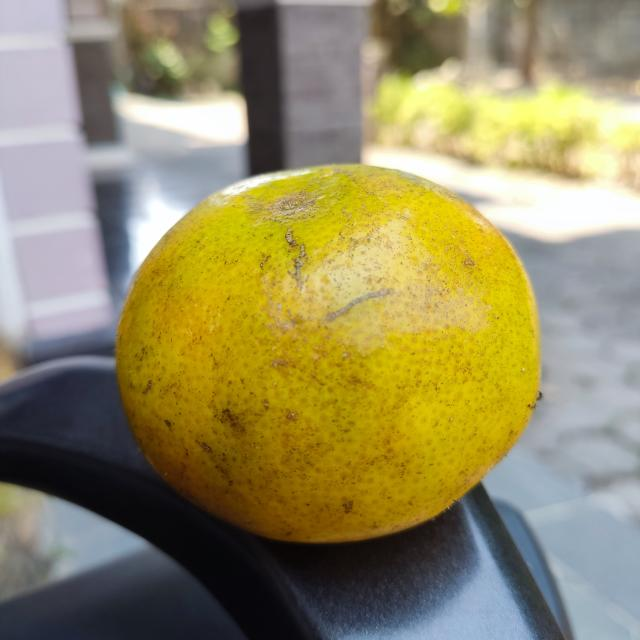orange: (114, 160, 544, 544)
